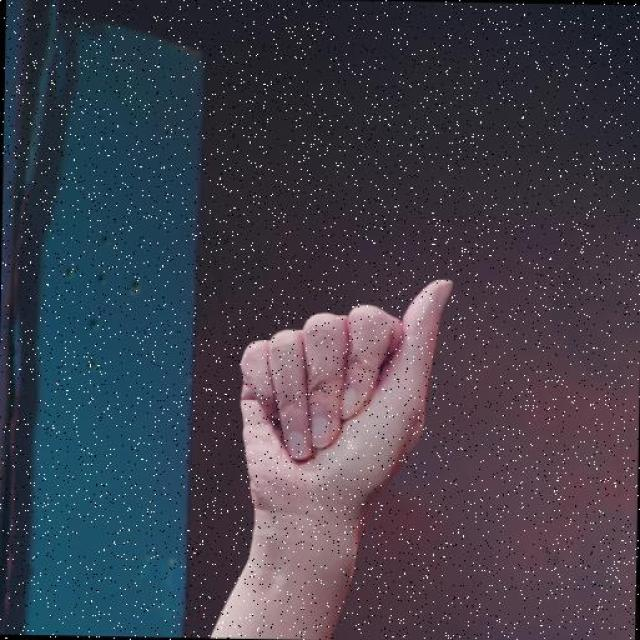A: (221, 269, 460, 559)
